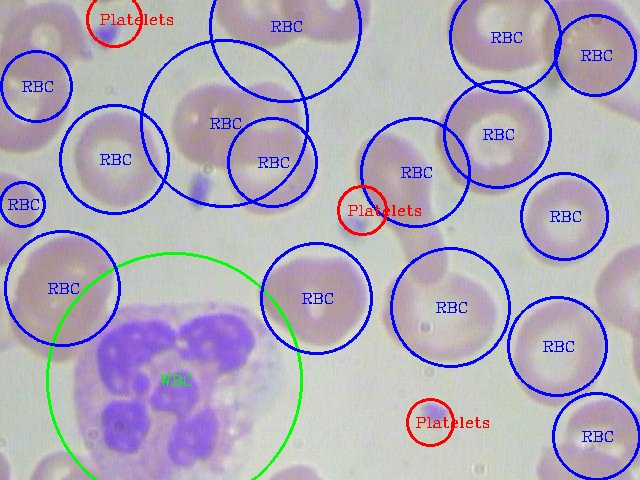Platelets: (83, 13, 128, 54), (179, 168, 217, 213), (413, 392, 455, 431), (331, 207, 372, 243)
RBC: (425, 79, 551, 194), (9, 232, 114, 358), (375, 265, 499, 366), (504, 293, 611, 407), (252, 247, 371, 347), (66, 106, 166, 210), (536, 0, 639, 100), (219, 124, 323, 220), (348, 128, 439, 235), (516, 173, 612, 268), (163, 74, 259, 169), (0, 42, 77, 155), (439, 0, 549, 75), (548, 393, 639, 478), (0, 0, 88, 85), (207, 0, 308, 52), (589, 237, 639, 330), (279, 0, 375, 46)
WBC: (53, 293, 293, 479)
